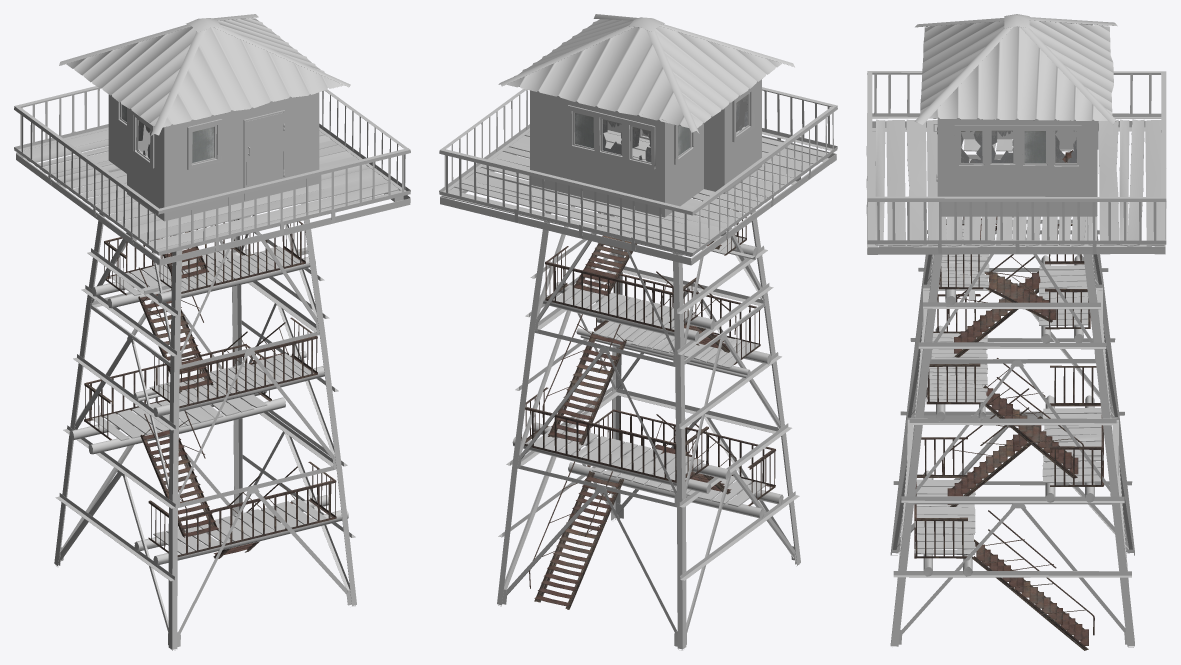
Rendered from safehouse.fbx.
The picture shows the model from 3 angles, left to right: view 1: azimuth 30°, elevation 25°; view 2: azimuth 150°, elevation 25°; view 3: azimuth 270°, elevation 25°; orthographic projection. The views are drawn at different scales.
Parts seen in each view (by area): view 1: Metal_Tower, Metal_Tower_Platform, Metal_Tower_Cabin_Roof, Metal_Tower_Cabin, Metal_Tower_Stairs, Metal_Tower_Door, Metal_Tower_Windows, Glass; view 2: Metal_Tower, Metal_Tower_Platform, Metal_Tower_Cabin_Roof, Metal_Tower_Cabin, Metal_Tower_Stairs, Metal_Tower_Windows, Glass; view 3: Metal_Tower, Metal_Tower_Cabin_Roof, Metal_Tower_Platform, Metal_Tower_Stairs, Metal_Tower_Cabin, Metal_Tower_Windows, Glass.
Part boxes in pixels (x1,y1,x2,y2): Metal_Tower: (14, 86, 410, 650); Metal_Tower_Platform: (69, 219, 348, 565); Metal_Tower_Cabin_Roof: (59, 14, 350, 136); Metal_Tower_Cabin: (108, 92, 319, 221); Metal_Tower_Stairs: (138, 231, 302, 558); Metal_Tower_Door: (246, 112, 284, 200); Metal_Tower_Windows: (116, 100, 222, 169); Glass: (121, 104, 214, 162); Metal_Tower: (439, 87, 837, 650); Metal_Tower_Platform: (512, 198, 783, 518); Metal_Tower_Cabin_Roof: (498, 14, 794, 133); Metal_Tower_Cabin: (519, 79, 761, 217); Metal_Tower_Stairs: (529, 235, 736, 609); Metal_Tower_Windows: (567, 86, 754, 169); Glass: (575, 94, 747, 162); Metal_Tower: (866, 71, 1166, 647); Metal_Tower_Cabin_Roof: (914, 14, 1117, 125); Metal_Tower_Platform: (914, 216, 1103, 576); Metal_Tower_Stairs: (942, 150, 1094, 650); Metal_Tower_Cabin: (939, 39, 1108, 216); Metal_Tower_Windows: (954, 121, 1098, 169); Glass: (961, 130, 1076, 163).
Size of the model in its own units: 775 by 1685 by 768.
